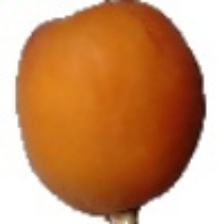apricot: (11, 5, 195, 206)
